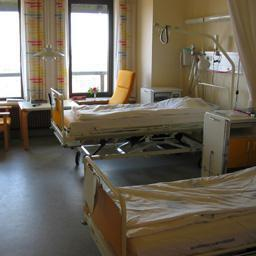Cama: (83, 155, 255, 251), (49, 85, 228, 146)
Ventana: (57, 6, 115, 95), (2, 4, 49, 102)
